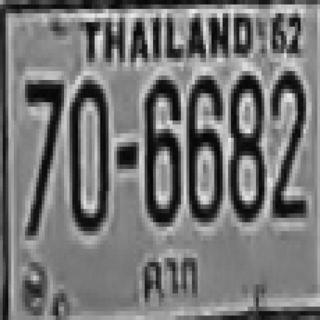N00: (68, 76, 107, 226)
N02: (268, 69, 305, 216)
N06: (143, 76, 180, 222), (185, 71, 221, 218)
N07: (22, 73, 61, 233)
N08: (227, 71, 263, 218)
P69: (140, 249, 204, 304)
